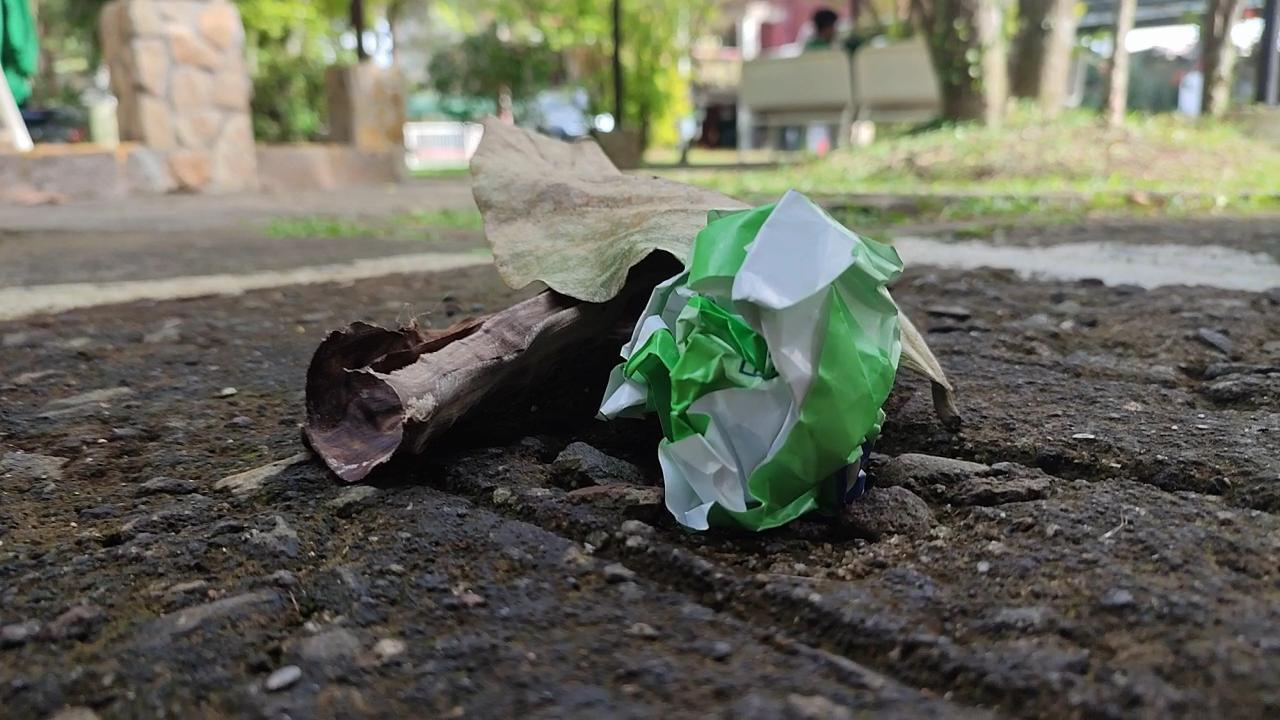Paper: (592, 174, 909, 549)
